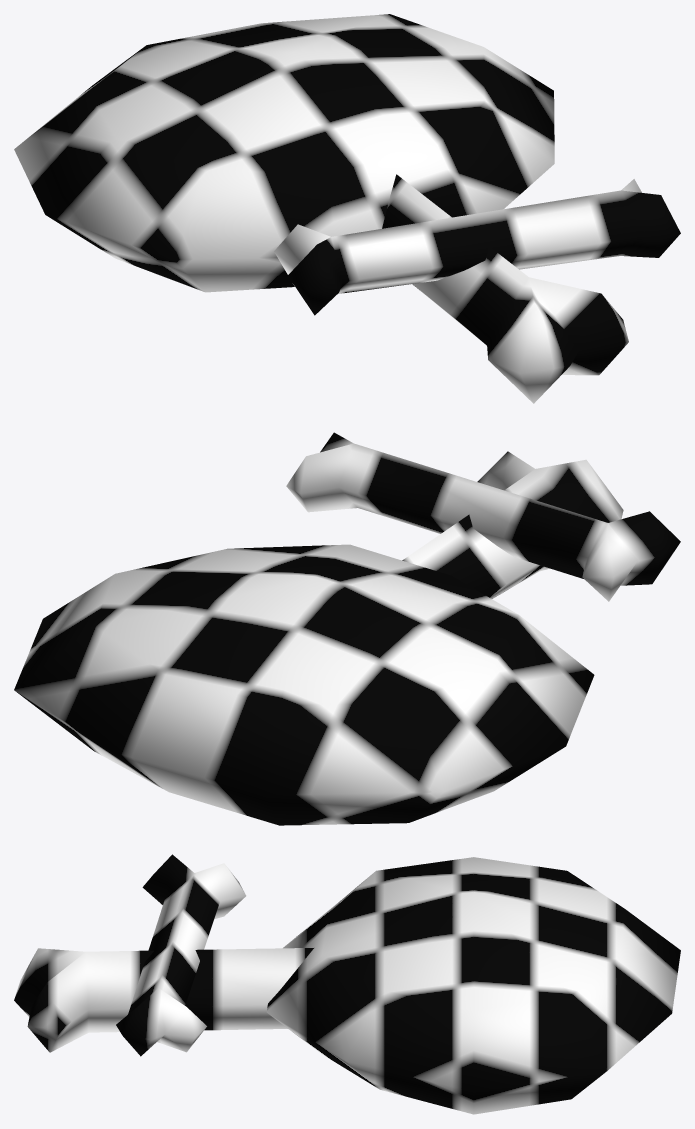
The model's file is initqu70.dae.
The picture shows the model from 3 angles, top to bottom: view 1: azimuth 30°, elevation 25°; view 2: azimuth 150°, elevation 25°; view 3: azimuth 270°, elevation 25°; orthographic projection. The views are drawn at different scales.
Visible parts, largest first — view 1: item; view 2: item; view 3: item.
Boxes of the visible parts, x1,y1,x2,y2 form: item: [14, 14, 680, 403]; item: [14, 432, 680, 825]; item: [14, 854, 680, 1114].
Bounding box in the file's own units: 1.18 × 1.57 × 0.4522.
Materials: 1 (1 with a texture image).
